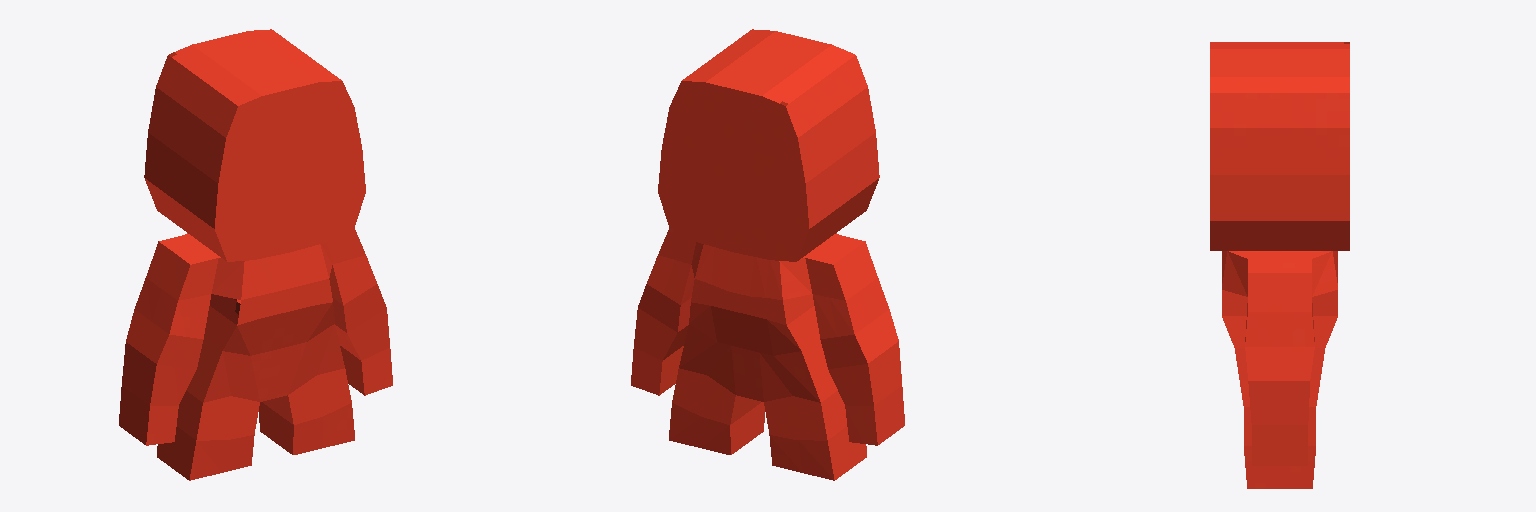
3 renders of one model, left to right at view 1: azimuth 30°, elevation 25°; view 2: azimuth 150°, elevation 25°; view 3: azimuth 270°, elevation 25°, orthographic.
Parts seen in each view (by area): view 1: Cube; view 2: Cube; view 3: Cube.
Boxes of the visible parts, x1=… form: Cube: x1=119, y1=29, x2=392, y2=480; Cube: x1=631, y1=29, x2=904, y2=480; Cube: x1=1210, y1=42, x2=1349, y2=488.
Bounding box in the file's own units: 4.4 × 6.55 × 2.17.
Materials: 1 (1 with a texture image).